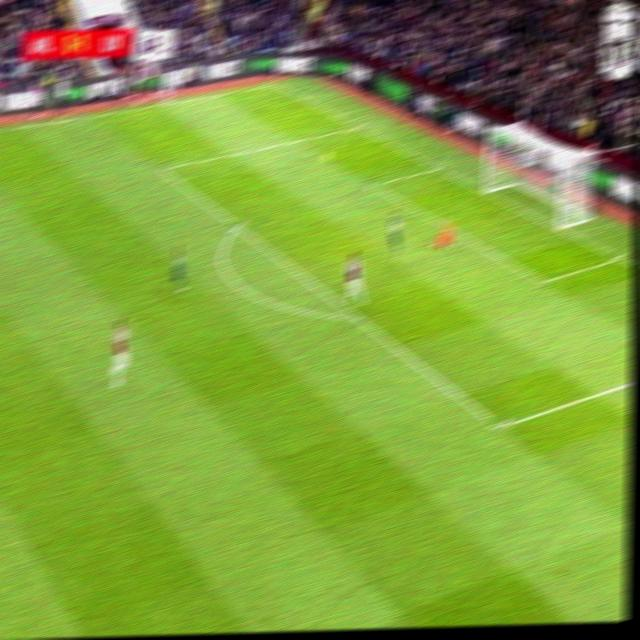bigarea_bottom_inner: (488, 412, 512, 438)
bigarea_top_inner: (152, 158, 170, 177)
bigarea_top_outter: (349, 119, 368, 133)
bottom_arc_area_intersection: (347, 305, 367, 326)
corner: (264, 77, 284, 89)
smallarea_bottom_inner: (531, 266, 555, 292)
smallarea_bottom_outter: (608, 247, 629, 267)
smallarea_top_inner: (363, 176, 383, 192)
smallarea_top_outter: (428, 158, 447, 177)
top_arc_area_intersection: (229, 218, 247, 234)
